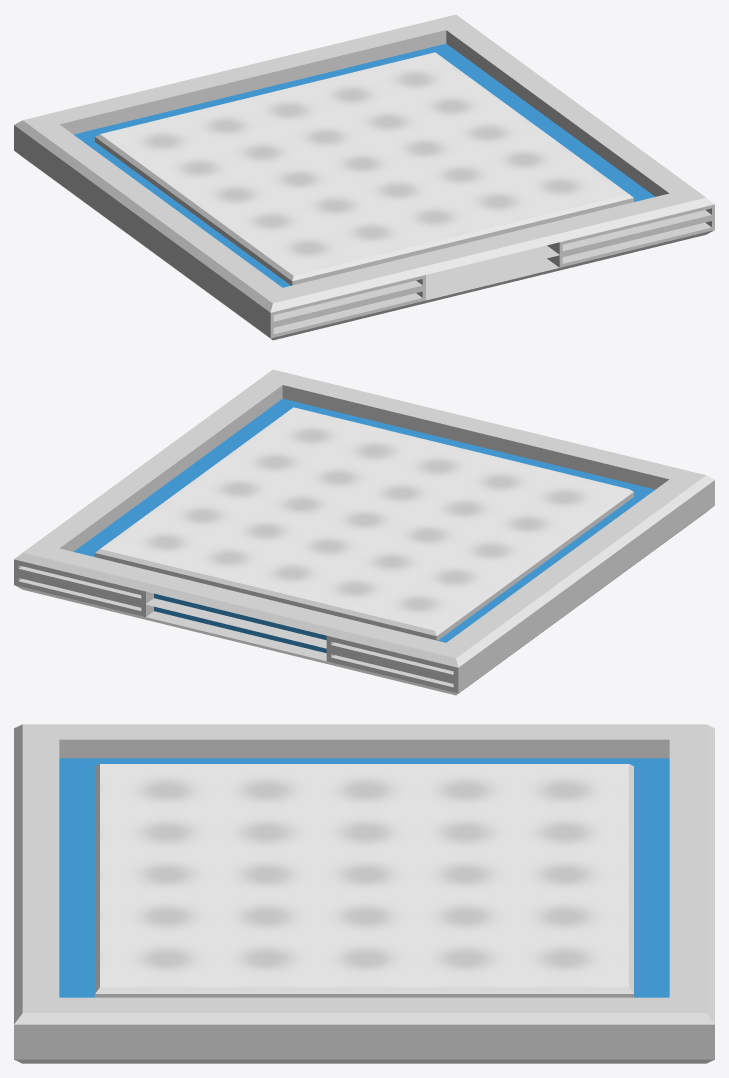
Rendered from Floor tile Low.fbx.
3 views of the same model, one above another, from view 1: azimuth 30°, elevation 25°; view 2: azimuth 150°, elevation 25°; view 3: azimuth 270°, elevation 25° (orthographic). The views are drawn at different scales.
Visible parts, largest first — view 1: Plane; view 2: Plane; view 3: Plane.
Boxes of the visible parts, x1,y1,x2,y2 form: Plane: (14, 14, 714, 340); Plane: (14, 369, 714, 695); Plane: (14, 724, 714, 1063).
Bounding box in the file's own units: 500 × 39.89 × 500.
3 materials, 1 textured.
